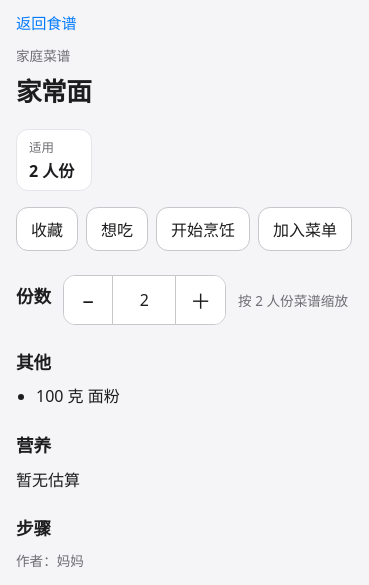
RecipeDetail › scales numeric ingredients when target servings change
Replace the text in the number field named "份数" with "4" at (144, 300), box x1=112 y1=276 x2=176 y2=324
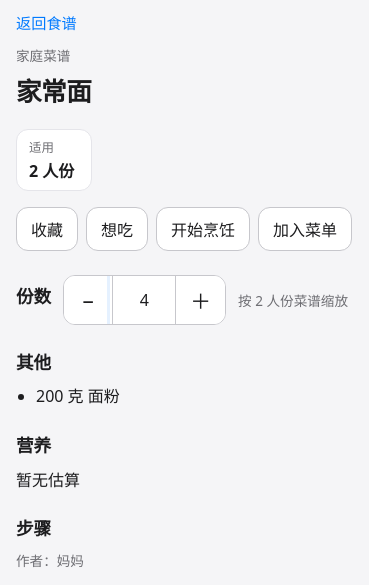
Expected: the list item "200 克 面粉" is shown, x1=36 y1=385 x2=120 y2=407
